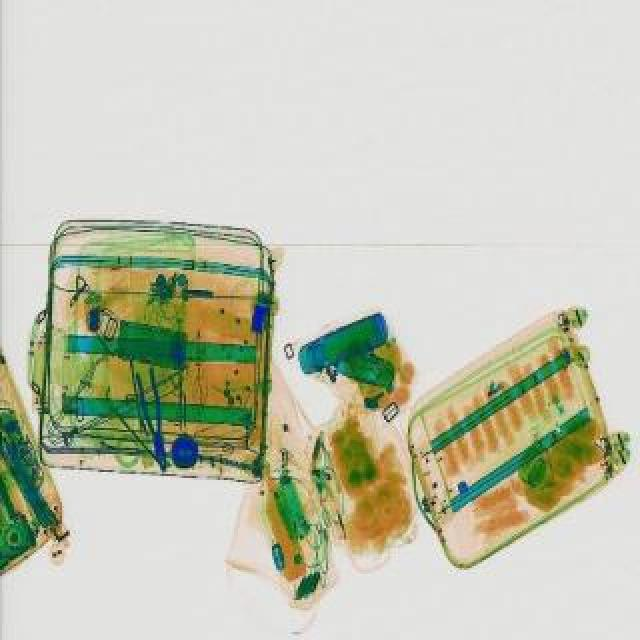wrench: (132, 362, 176, 470)
